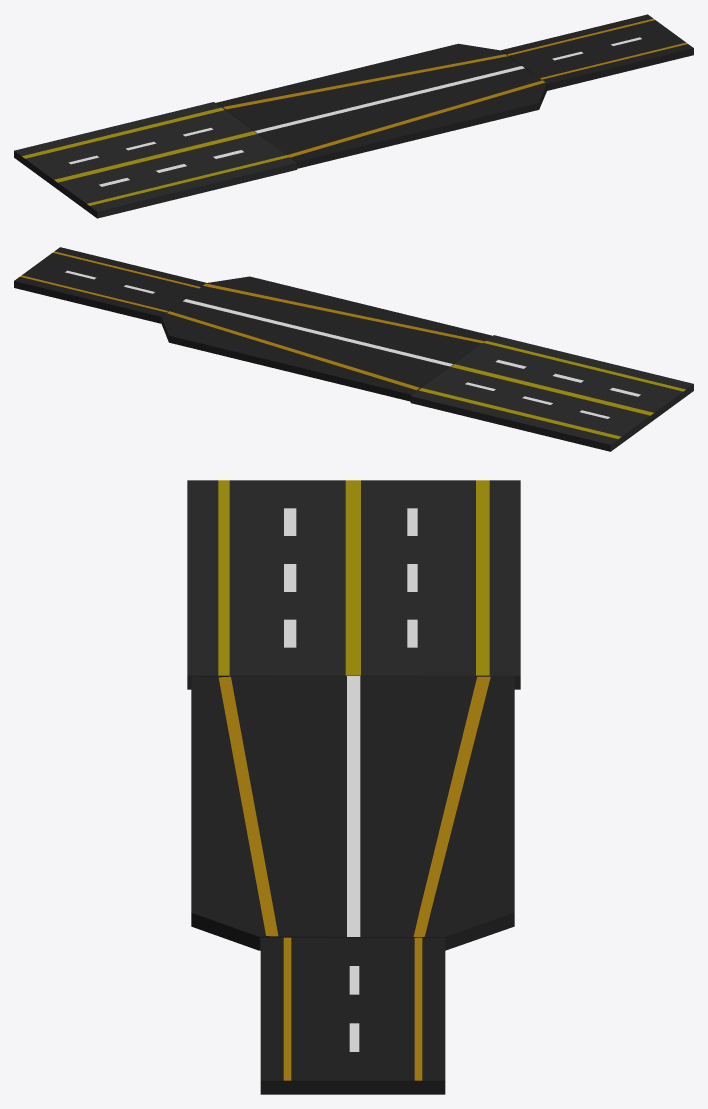
File: Road lanes blend.fbx
The picture shows the model from 3 angles, top to bottom: view 1: azimuth 30°, elevation 25°; view 2: azimuth 150°, elevation 25°; view 3: azimuth 270°, elevation 25°; orthographic projection. The views are drawn at different scales.
Visible parts, largest first — view 1: Cube, Road, Cube.001; view 2: Cube, Road, Cube.001; view 3: Cube, Road, Cube.001.
Part boxes in pixels (x1,y1,x2,y2): Cube: (216, 43, 546, 168); Road: (14, 102, 297, 218); Cube.001: (501, 14, 693, 90); Cube: (161, 276, 491, 401); Road: (410, 335, 693, 451); Cube.001: (14, 247, 206, 323); Cube: (191, 675, 514, 950); Road: (187, 480, 520, 689); Cube.001: (260, 937, 445, 1094).
Bounding box in the file's own units: 18452 × 351 × 4327.
